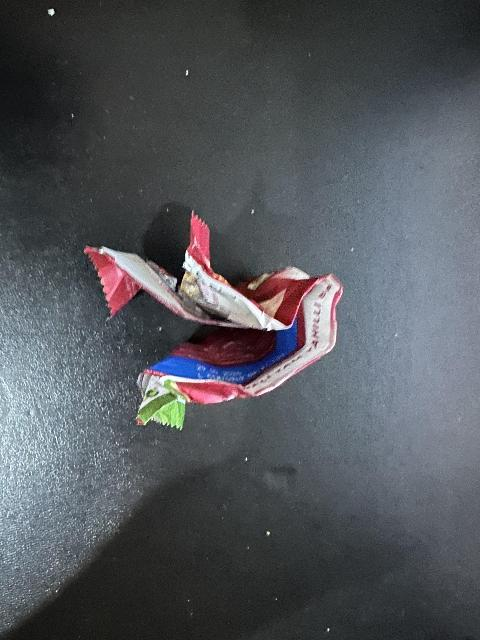Plastik: (76, 225, 349, 425)
